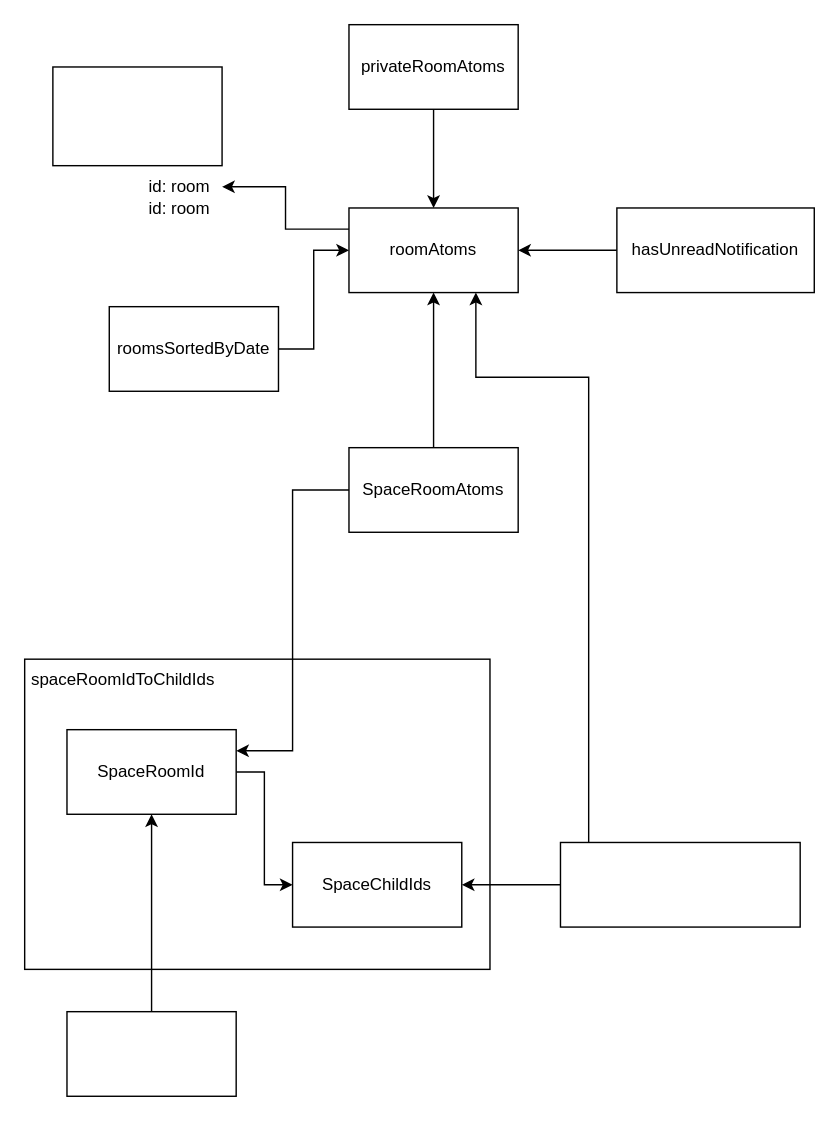
Image size: 839x1121. Some labels were removed from this diagram. The centre of each missing label's shape, as x and y in pixels:
"roomAtomsRecord" belongs at (x=136, y=116).
"SpaceRoomIds" belongs at (x=151, y=1053).
"SpaceRoomIdToChildRooms" belongs at (x=679, y=884).
